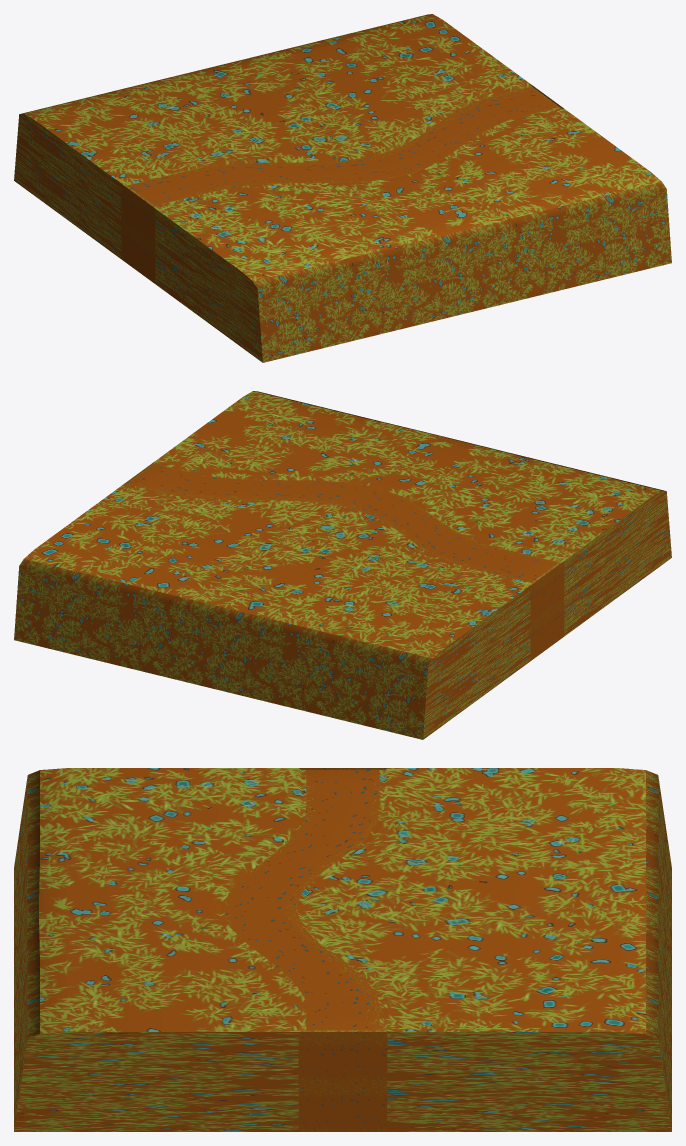
File: wide t3st boi4 .fbx
3 views of the same model, one above another, from view 1: azimuth 30°, elevation 25°; view 2: azimuth 150°, elevation 25°; view 3: azimuth 270°, elevation 25° (orthographic). The views are drawn at different scales.
Visible parts, largest first — view 1: Mesh_Path_Straight4; view 2: Mesh_Path_Straight4; view 3: Mesh_Path_Straight4.
Part boxes in pixels (<box>): Mesh_Path_Straight4: <box>14,14,671,362</box>; Mesh_Path_Straight4: <box>14,391,671,739</box>; Mesh_Path_Straight4: <box>14,768,671,1131</box>.
Size of the model in its own units: 5623 by 995 by 5926.
